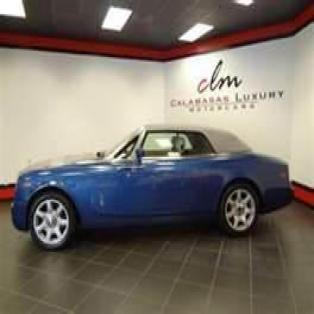Auto: (12, 122, 296, 251)
